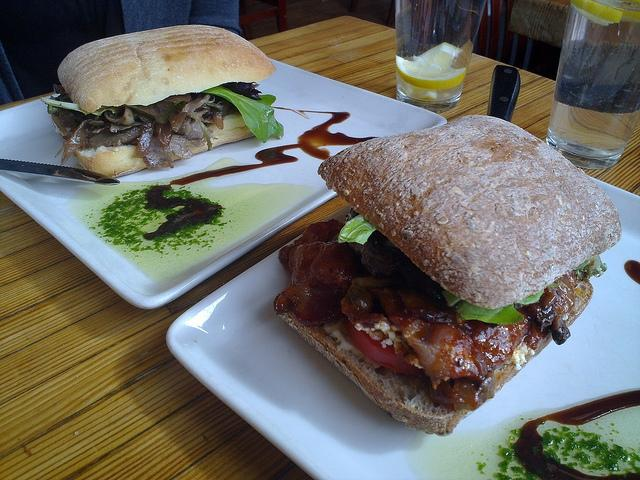lemon: (396, 42, 466, 90), (570, 0, 622, 25)
lettuce: (200, 86, 284, 144), (456, 300, 524, 324), (338, 214, 378, 246)
tomato: (347, 320, 424, 375)
